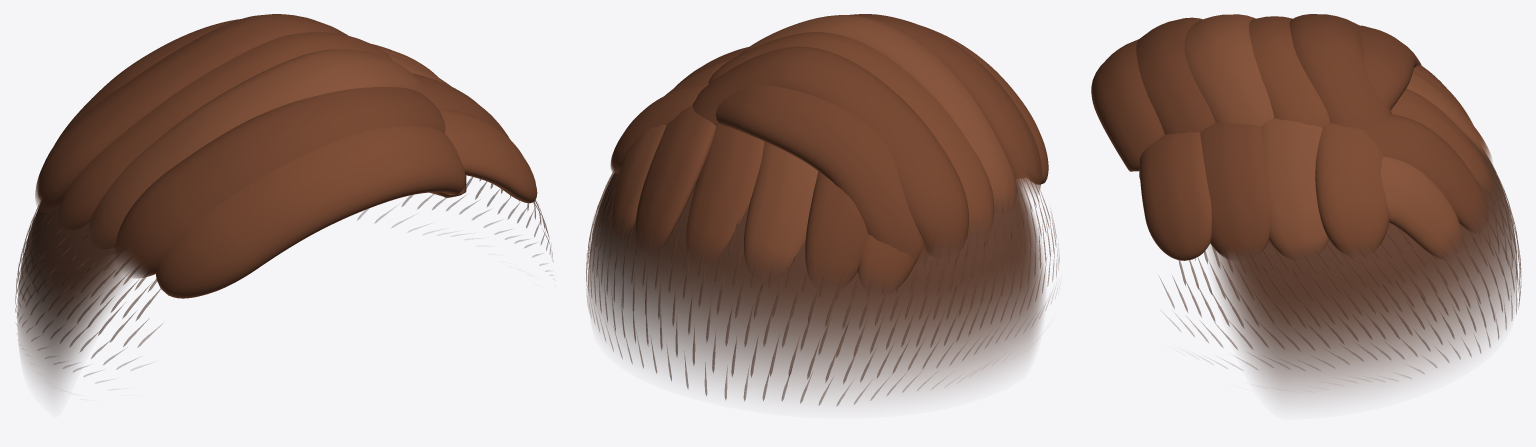
File: Masculine-Masculine-taper-hair259-8be430eb.glb
3 views of the same model, side by side, from view 1: azimuth 30°, elevation 25°; view 2: azimuth 150°, elevation 25°; view 3: azimuth 270°, elevation 25° (orthographic). The views are drawn at different scales.
Parts seen in each view (by area): view 1: 226 hair / Hair258 / sculpted side sweep 1, 226 hair / Hair258 / sculpted side sweep 0, 226 hair / Hair258 / sculpted side sweep 2, 226 hair / Hair258 / smooth side fade, 226 hair / Hair259 / directional fade marks214; view 2: 226 hair / Hair258 / smooth side fade, 226 hair / Hair258 / sculpted side sweep 0, 226 hair / Hair258 / sculpted side sweep 1, 226 hair / Hair258 / sculpted side sweep 2, 226 hair / Hair259 / directional fade marks214; view 3: 226 hair / Hair258 / smooth side fade, 226 hair / Hair258 / sculpted side sweep 0, 226 hair / Hair258 / sculpted side sweep 1, 226 hair / Hair258 / sculpted side sweep 2, 226 hair / Hair259 / directional fade marks214.
Boxes of the visible parts, left/top/right/bottom form: 226 hair / Hair258 / sculpted side sweep 1: left=38, top=32, right=537, bottom=298; 226 hair / Hair258 / sculpted side sweep 0: left=35, top=14, right=509, bottom=278; 226 hair / Hair258 / sculpted side sweep 2: left=88, top=49, right=450, bottom=249; 226 hair / Hair258 / smooth side fade: left=17, top=199, right=130, bottom=395; 226 hair / Hair259 / directional fade marks214: left=15, top=177, right=553, bottom=382; 226 hair / Hair258 / smooth side fade: left=588, top=172, right=1044, bottom=397; 226 hair / Hair258 / sculpted side sweep 0: left=635, top=14, right=1041, bottom=287; 226 hair / Hair258 / sculpted side sweep 1: left=610, top=25, right=1048, bottom=292; 226 hair / Hair258 / sculpted side sweep 2: left=610, top=15, right=1016, bottom=276; 226 hair / Hair259 / directional fade marks214: left=586, top=171, right=1059, bottom=406; 226 hair / Hair258 / smooth side fade: left=1208, top=133, right=1517, bottom=400; 226 hair / Hair258 / sculpted side sweep 0: left=1136, top=14, right=1488, bottom=260; 226 hair / Hair258 / sculpted side sweep 1: left=1091, top=16, right=1493, bottom=260; 226 hair / Hair258 / sculpted side sweep 2: left=1184, top=14, right=1492, bottom=259; 226 hair / Hair259 / directional fade marks214: left=1160, top=150, right=1521, bottom=380.
Size of the model in its own units: 0.7778 by 0.5403 by 0.6926.
